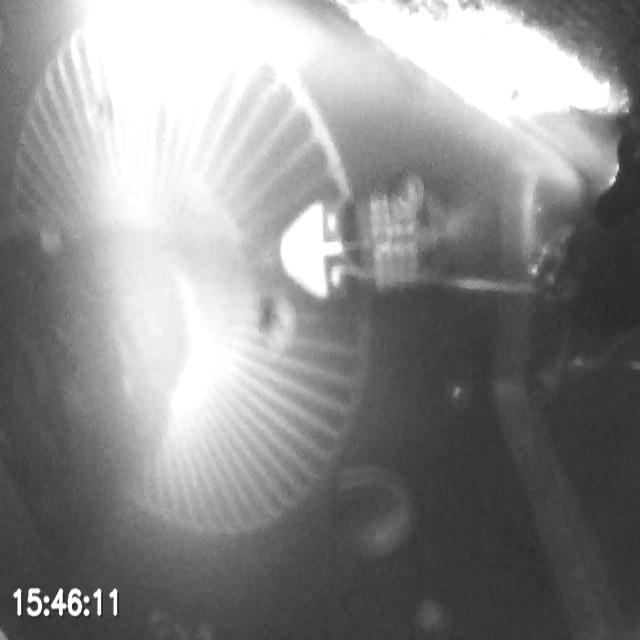head: (280, 195, 445, 301)
